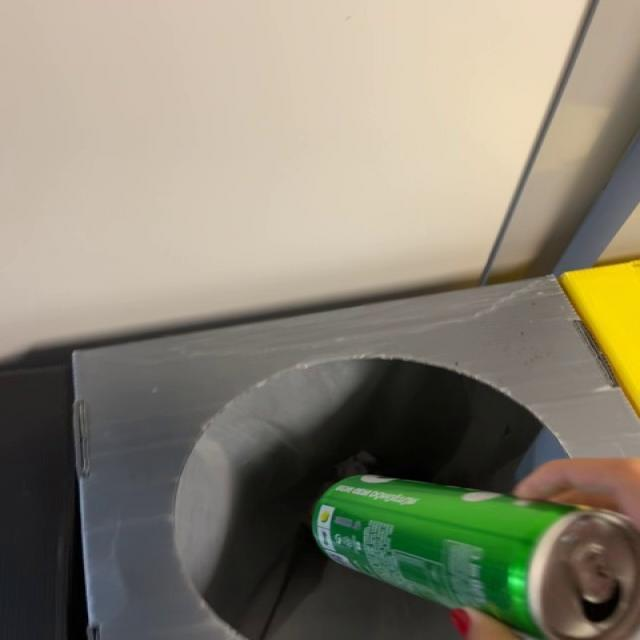Bin: (72, 277, 637, 640)
Metal: (312, 476, 639, 640)
